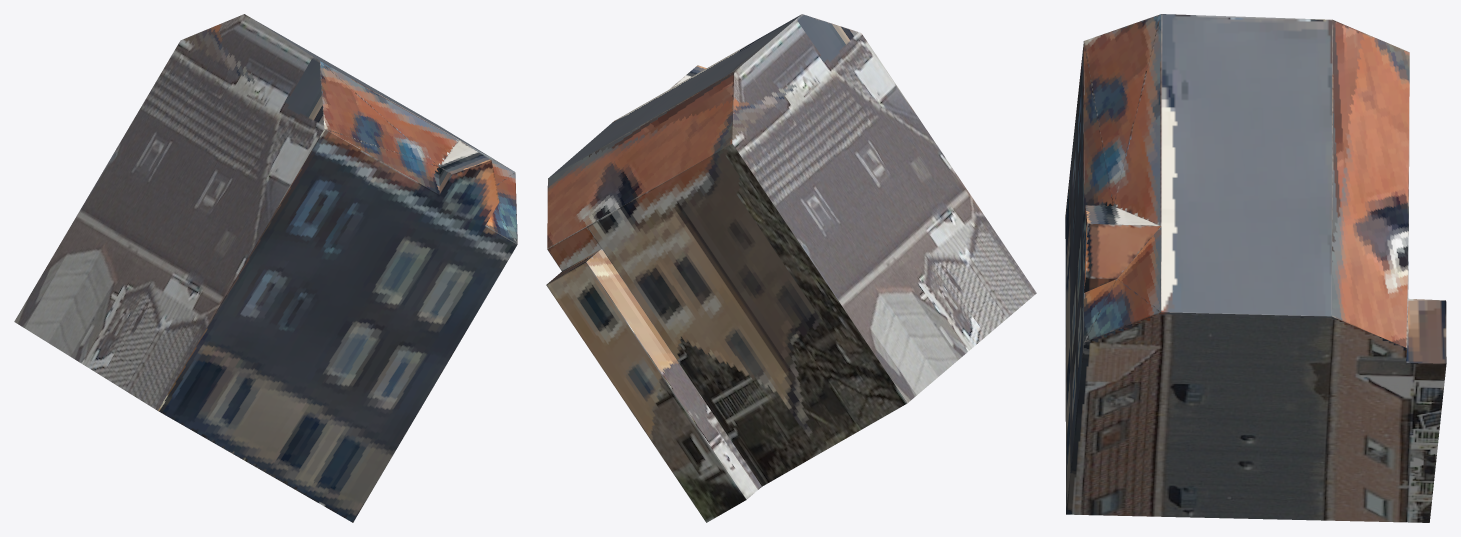
The picture shows the model from 3 angles, left to right: view 1: azimuth 30°, elevation 25°; view 2: azimuth 150°, elevation 25°; view 3: azimuth 270°, elevation 25°; orthographic projection. The views are drawn at different scales.
Visible parts, largest first — view 1: BAG_0599100000688758 (×4); view 2: BAG_0599100000688758 (×4); view 3: BAG_0599100000688758 (×4).
Boxes of the visible parts, x1,y1,x2,y2 form: BAG_0599100000688758 (×4): [14, 14, 517, 522]; BAG_0599100000688758 (×4): [546, 14, 1036, 522]; BAG_0599100000688758 (×4): [1065, 14, 1446, 522].
Size of the model in its own units: 15.55 by 16.27 by 10.86.
Materials: 1 (1 with a texture image).
